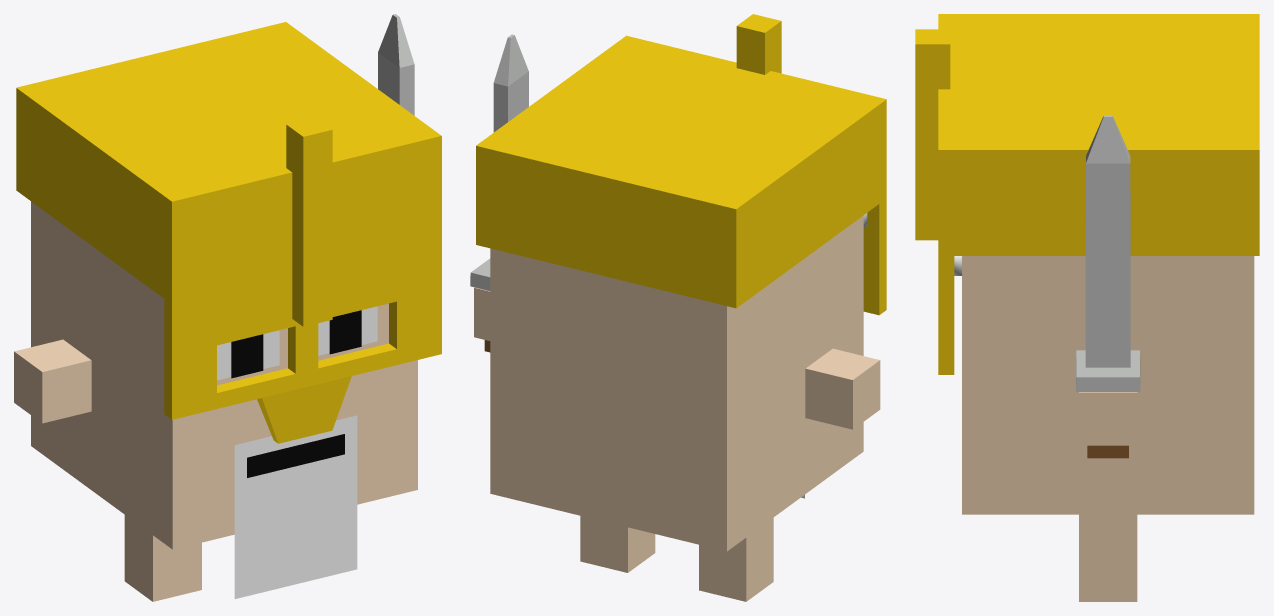
Rendered from Front1.fbx.
The picture shows the model from 3 angles, left to right: view 1: azimuth 30°, elevation 25°; view 2: azimuth 150°, elevation 25°; view 3: azimuth 270°, elevation 25°; orthographic projection. The views are drawn at different scales.
Visible parts, largest first — view 1: Cube.028; view 2: Cube.028; view 3: Cube.028.
Boxes of the visible parts, x1,y1,x2,y2 form: Cube.028: (14,14,441,601); Cube.028: (470,14,886,601); Cube.028: (915,14,1259,601).
Size of the model in its own units: 322 by 399 by 236.
Materials: 1 (1 with a texture image).
